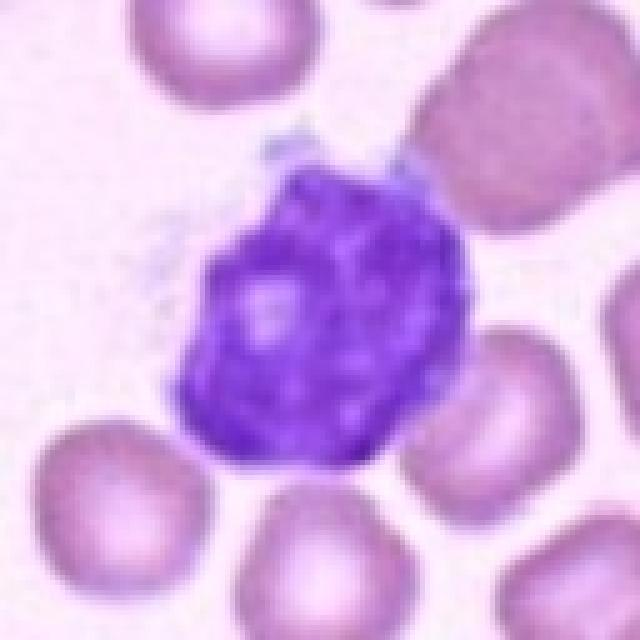lympho: (166, 120, 482, 491)
